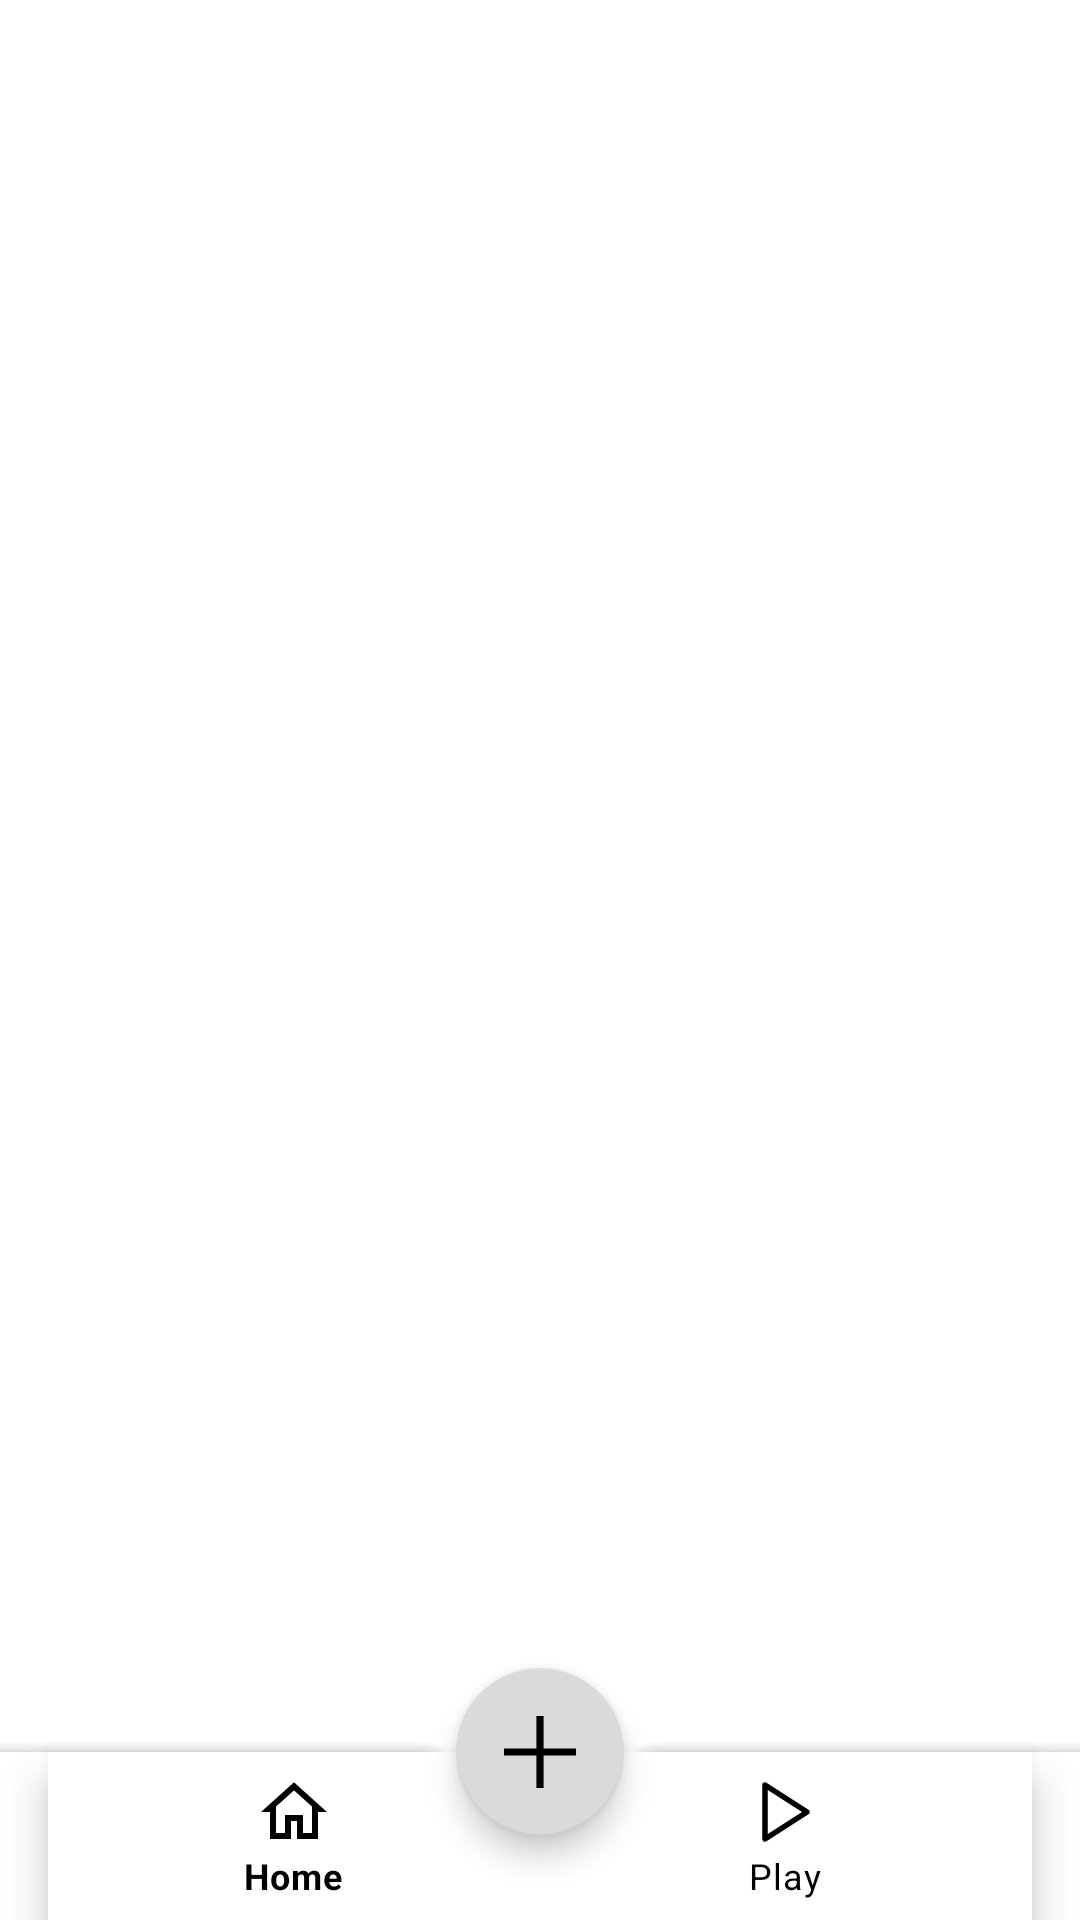

Screen size 1080×1920. Icon name, then its center in pixels as (x=x, y=y):
plus: (x=540, y=1752)
